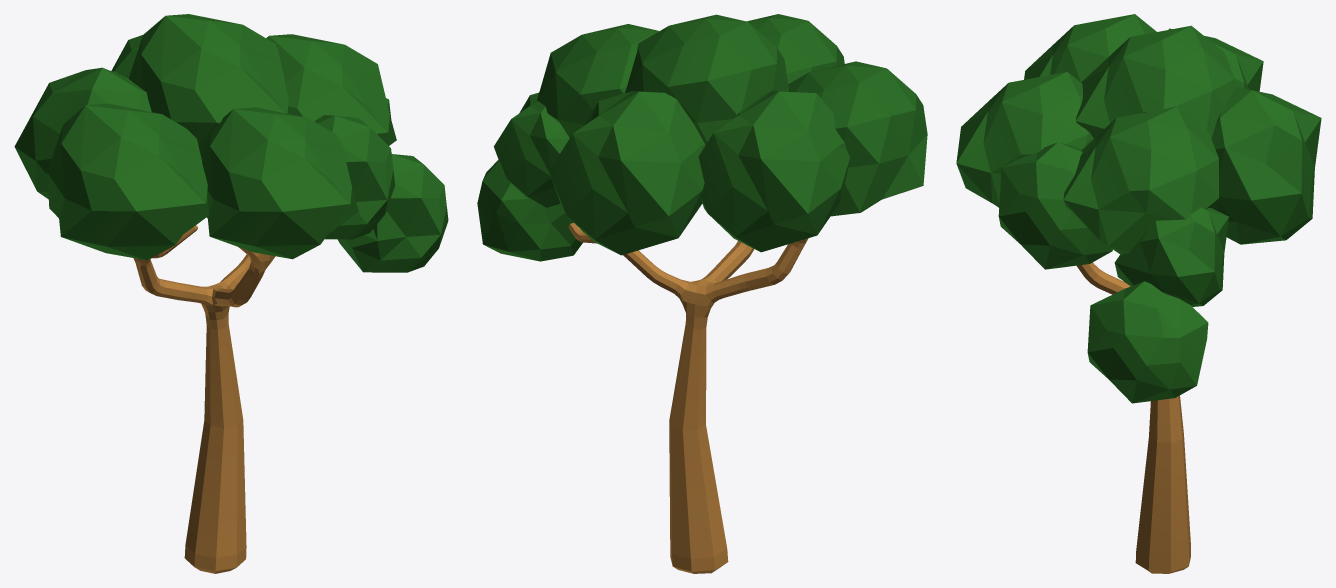
The model's file is tree.001_lev4.glb.
3 renders of one model, left to right at view 1: azimuth 30°, elevation 25°; view 2: azimuth 150°, elevation 25°; view 3: azimuth 270°, elevation 25°, orthographic. The views are drawn at different scales.
Parts seen in each view (by area): view 1: tree.001_lev4; view 2: tree.001_lev4; view 3: tree.001_lev4.
Boxes of the visible parts, x1,y1,x2,y2 form: tree.001_lev4: (14,14,448,573); tree.001_lev4: (477,14,927,573); tree.001_lev4: (956,14,1321,573).
Size of the model in its own units: 2.16 by 2.76 by 1.74.
